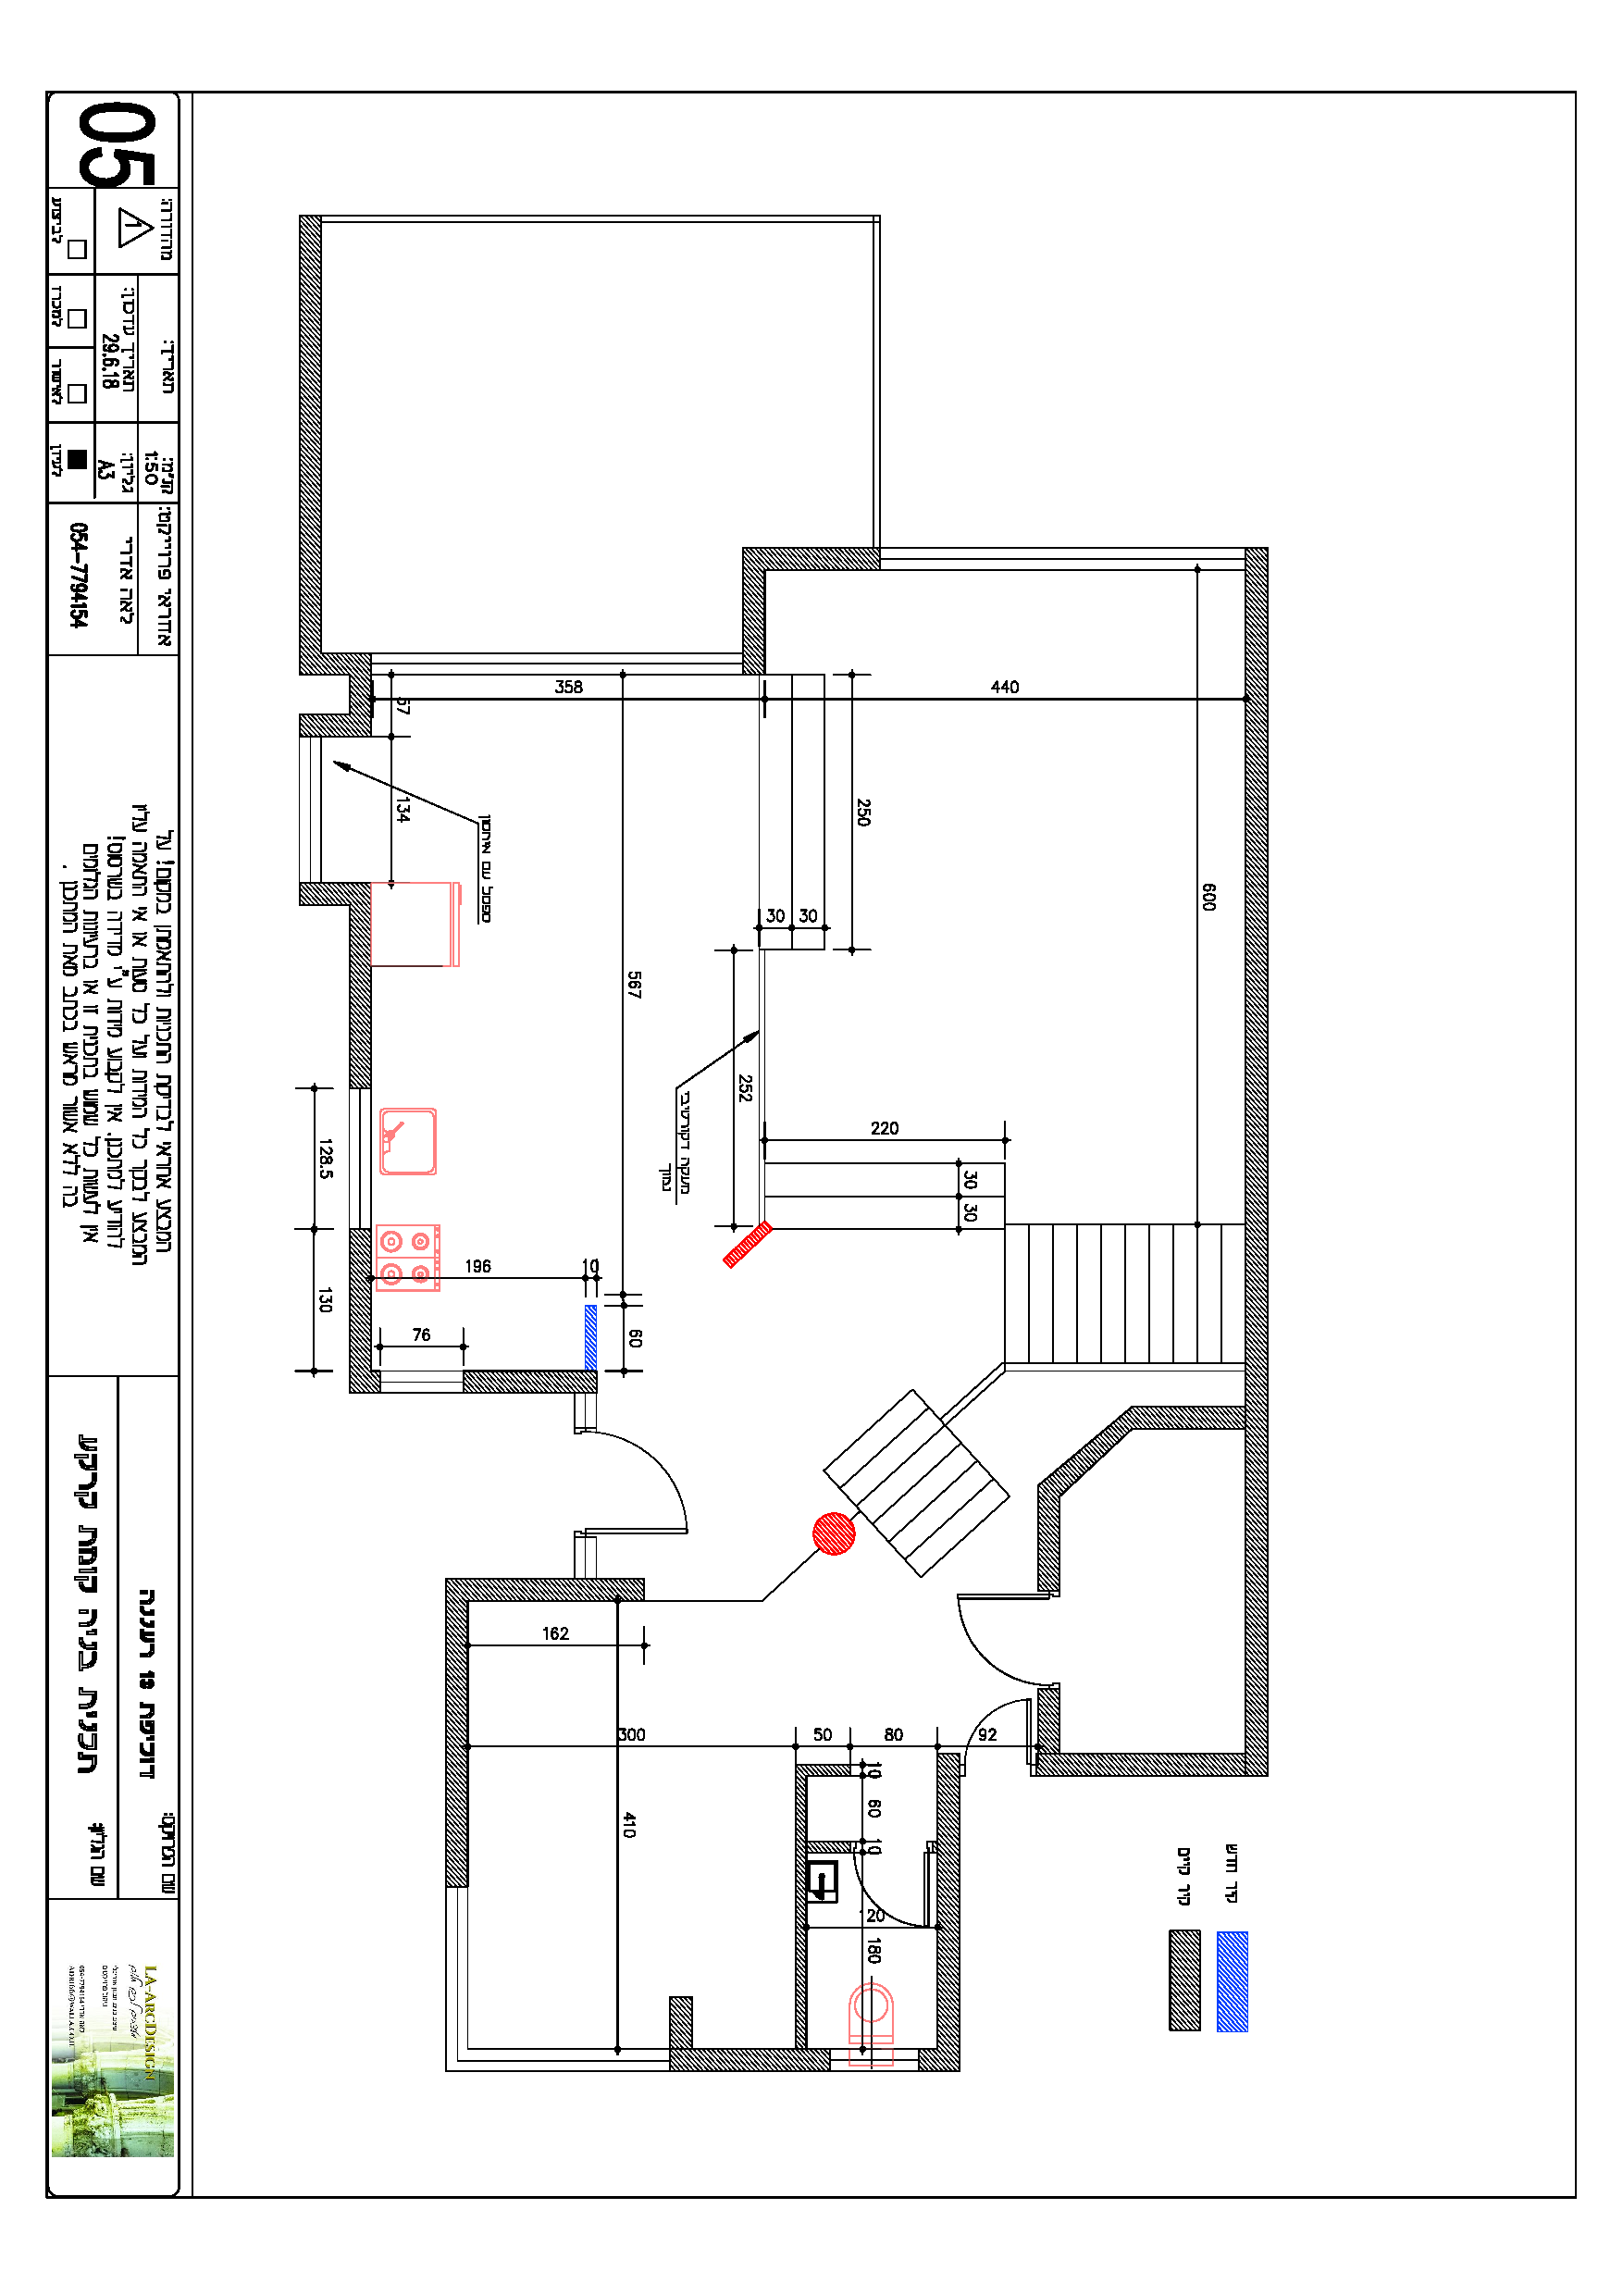door: (604, 1421, 708, 1549), (940, 1585, 1029, 1693), (970, 1693, 1035, 1739)
wall: (1245, 555, 1268, 1769), (710, 536, 864, 643), (669, 1975, 785, 2099), (302, 218, 320, 662), (448, 1583, 469, 1878), (941, 1760, 961, 2055), (1040, 1755, 1240, 1774), (451, 1581, 636, 1597), (745, 550, 766, 671), (1135, 1407, 1217, 1433)
